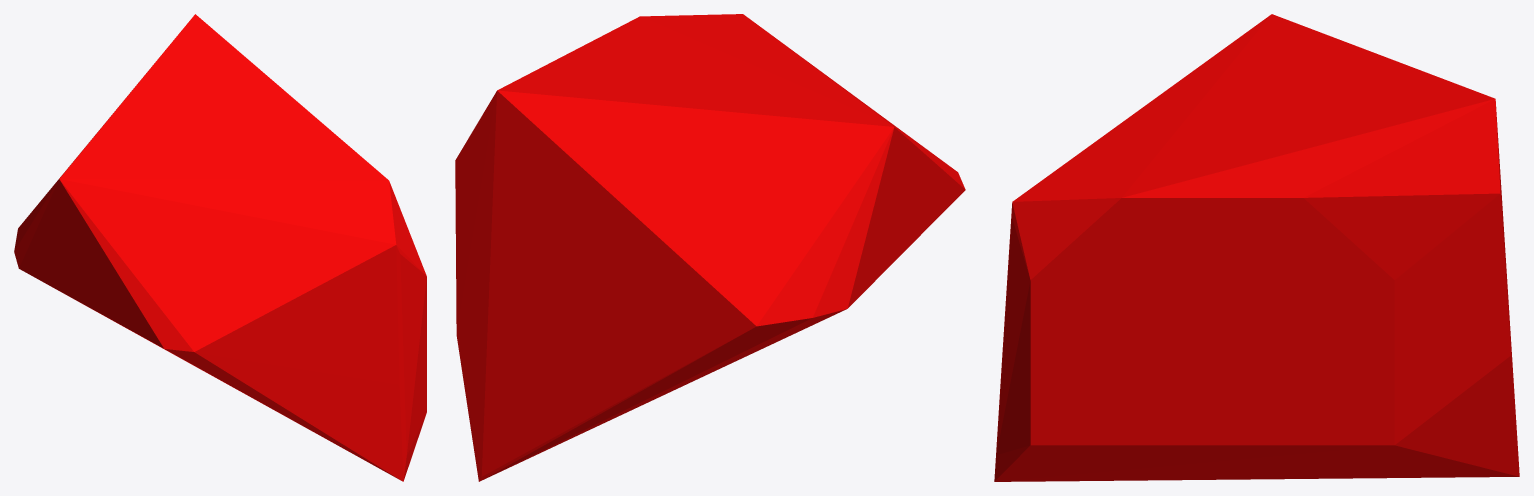
Rendered from tip_006_1_convex_hull_08.obj.
3 renders of one model, left to right at view 1: azimuth 30°, elevation 25°; view 2: azimuth 150°, elevation 25°; view 3: azimuth 270°, elevation 25°, orthographic. The views are drawn at different scales.
Visible parts, largest first — view 1: tip_006_1_convex_hull_08; view 2: tip_006_1_convex_hull_08; view 3: tip_006_1_convex_hull_08.
Part boxes in pixels (x1,y1,x2,y2): tip_006_1_convex_hull_08: (14,14,426,481); tip_006_1_convex_hull_08: (455,14,965,481); tip_006_1_convex_hull_08: (994,14,1519,481).
Bounding box in the file's own units: 0.00124 × 0.00139 × 0.00173.
